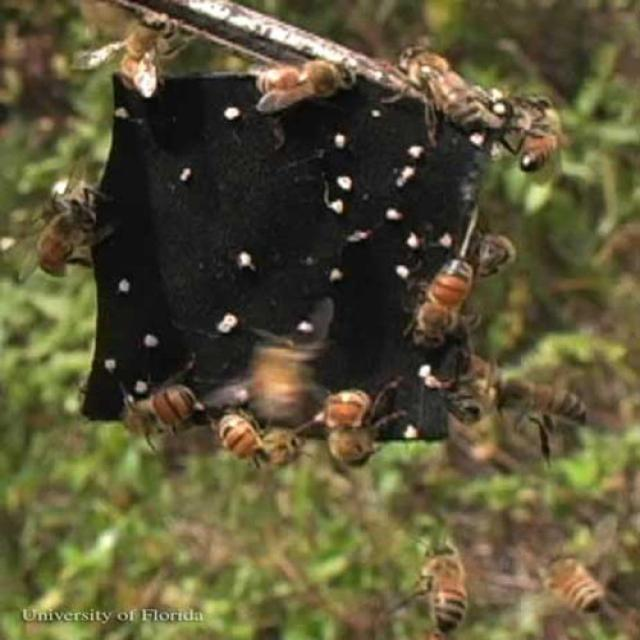Apis-mellifera-scutellata: (384, 533, 494, 635), (21, 174, 118, 285), (400, 223, 480, 357), (384, 43, 486, 146), (238, 48, 366, 125), (495, 360, 590, 462), (93, 0, 175, 111), (108, 362, 203, 450), (524, 541, 614, 619), (419, 369, 491, 464), (318, 385, 391, 473), (520, 71, 562, 184), (213, 398, 278, 471)
